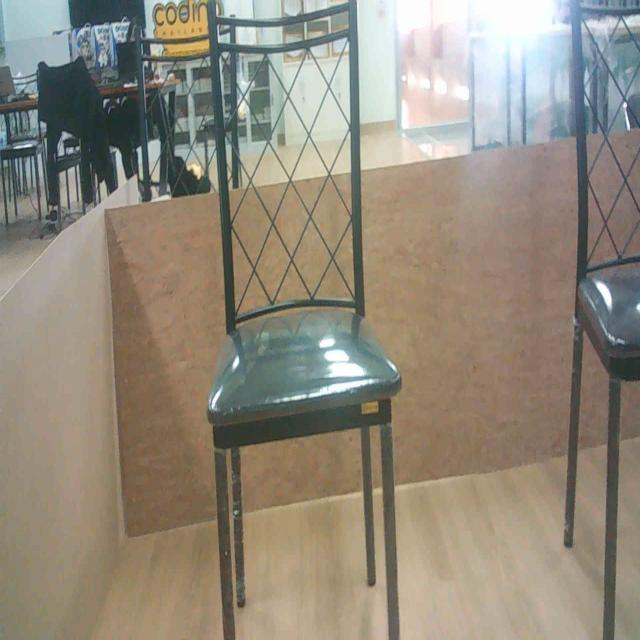emtpy: (187, 0, 411, 640)
